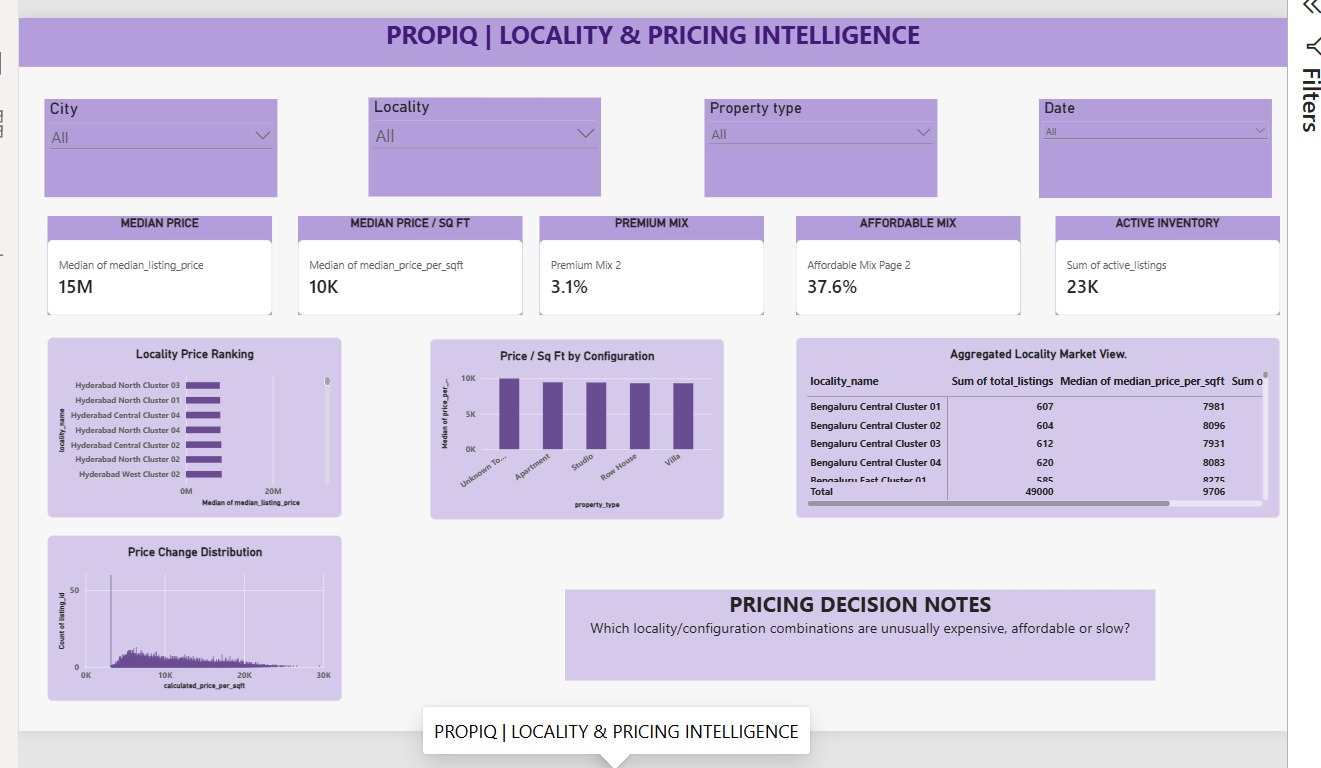

This screenshot's page, from the dashboard's own definition file:
{"tool":"powerbi","page":{"name":"PROPIQ | LOCALITY & PRICING INTELLIGENCE","canvas":[1920,1080],"ordinal":1},"visuals":[{"type":"textbox","box":[0,0,1920,74],"z":0},{"type":"slicer","fields":{"Values":["gold_dim_locality.city"]},"box":[38,123.1,352.4,148.7],"z":1000},{"type":"slicer","fields":{"Values":["gold_dim_locality.locality_name"]},"box":[528.4,121.2,352,150],"z":2000},{"type":"slicer","fields":{"Values":["gold_dim_property.property_type"]},"box":[1038.7,123.1,352.4,148.7],"z":3000},{"type":"slicer","fields":{"Values":["gold_dim_date.date_key"]},"box":[1543.6,123.1,352.9,150.2],"z":4000},{"type":"cardVisual","title":"MEDIAN PRICE","fields":{"Data":["Median(gold_locality_price_summary.median_listing_price)"]},"box":[43.4,300.4,340,150],"z":5000},{"type":"cardVisual","title":"MEDIAN PRICE / SQ FT","fields":{"Data":["Median(gold_locality_price_summary.median_price_per_sqft)"]},"box":[423.5,300.4,340,150],"z":6000},{"type":"cardVisual","title":"PREMIUM MIX","fields":{"Data":["gold_broker_performance_summary.Premium Mix 2"]},"box":[789,300.4,340,150],"z":7000},{"type":"cardVisual","title":"AFFORDABLE MIX","fields":{"Data":["gold_broker_performance_summary.Affordable Mix Page 2"]},"box":[1176.3,300.4,340,150],"z":8000},{"type":"cardVisual","title":"ACTIVE INVENTORY","fields":{"Data":["Sum(gold_locality_price_summary.active_listings)"]},"box":[1569,300.4,340,150],"z":9000},{"type":"clusteredBarChart","title":"Locality Price Ranking","fields":{"Category":["gold_dim_locality.locality_name"],"Y":["Median(gold_locality_price_summary.median_listing_price)"]},"box":[43.4,483.2,445.2,272.6],"z":10000},{"type":"clusteredColumnChart","title":"Price / Sq Ft by Configuration","fields":{"Category":["gold_dim_property.property_type"],"Y":["Median(gold_fact_listing.price_per_sqft)"]},"box":[622.5,485,445.2,273.3],"z":11000},{"type":"pivotTable","title":"Aggregated Locality Market View.","fields":{"Rows":["gold_dim_locality.locality_name"],"Values":["Sum(gold_locality_price_summary.total_listings)","Median(gold_locality_price_summary.median_price_per_sqft)","Sum(gold_locality_price_summary.active_listings)"]},"box":[1176.3,483.2,732.9,273.3],"z":12000},{"type":"clusteredColumnChart","title":"Price Change Distribution","fields":{"Category":["gold_fact_listing.calculated_price_per_sqft"],"Y":["CountNonNull(gold_fact_listing.listing_id)"]},"box":[43.4,783.6,446,250.6],"z":13000},{"type":"textbox","box":[826,866,894,138],"z":14000}]}

Visuals, with their boxes on the page's 1920x1080 design canvas (x1, y1, x2, y2). These are canvas units, not pixel positions in the 1321x768 screenshot, which may show the page scaled, cropped or inside an application window:
textbox: bbox=(0, 0, 1920, 74)
slicer - gold_dim_locality.city: bbox=(38, 123, 390, 272)
slicer - gold_dim_locality.locality_name: bbox=(528, 121, 880, 271)
slicer - gold_dim_property.property_type: bbox=(1039, 123, 1391, 272)
slicer - gold_dim_date.date_key: bbox=(1544, 123, 1896, 273)
"MEDIAN PRICE" cardVisual: bbox=(43, 300, 383, 450)
"MEDIAN PRICE / SQ FT" cardVisual: bbox=(424, 300, 764, 450)
"PREMIUM MIX" cardVisual: bbox=(789, 300, 1129, 450)
"AFFORDABLE MIX" cardVisual: bbox=(1176, 300, 1516, 450)
"ACTIVE INVENTORY" cardVisual: bbox=(1569, 300, 1909, 450)
"Locality Price Ranking" clusteredBarChart: bbox=(43, 483, 489, 756)
"Price / Sq Ft by Configuration" clusteredColumnChart: bbox=(622, 485, 1068, 758)
"Aggregated Locality Market View." pivotTable: bbox=(1176, 483, 1909, 756)
"Price Change Distribution" clusteredColumnChart: bbox=(43, 784, 489, 1034)
textbox: bbox=(826, 866, 1720, 1004)
